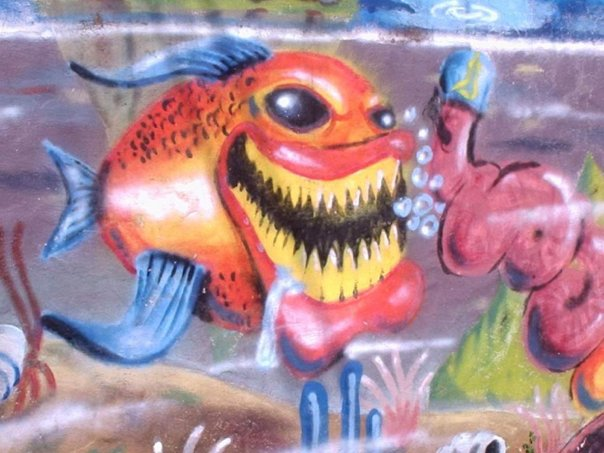graffity: (3, 28, 604, 449)
